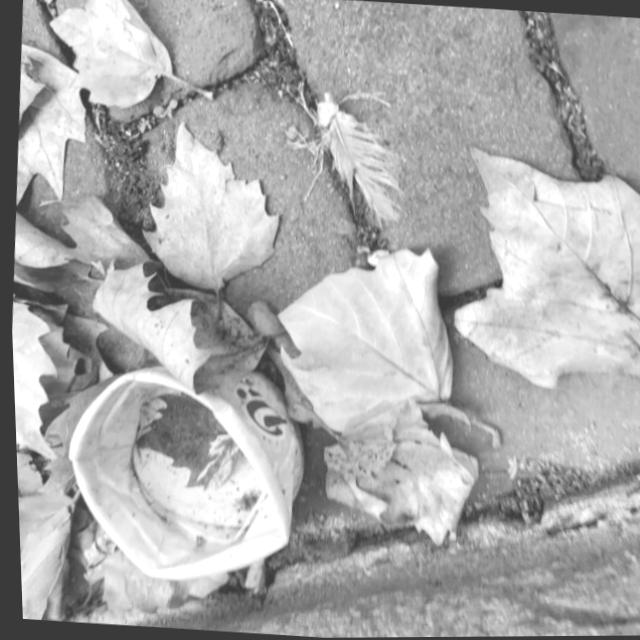Paper: (49, 349, 316, 593)
